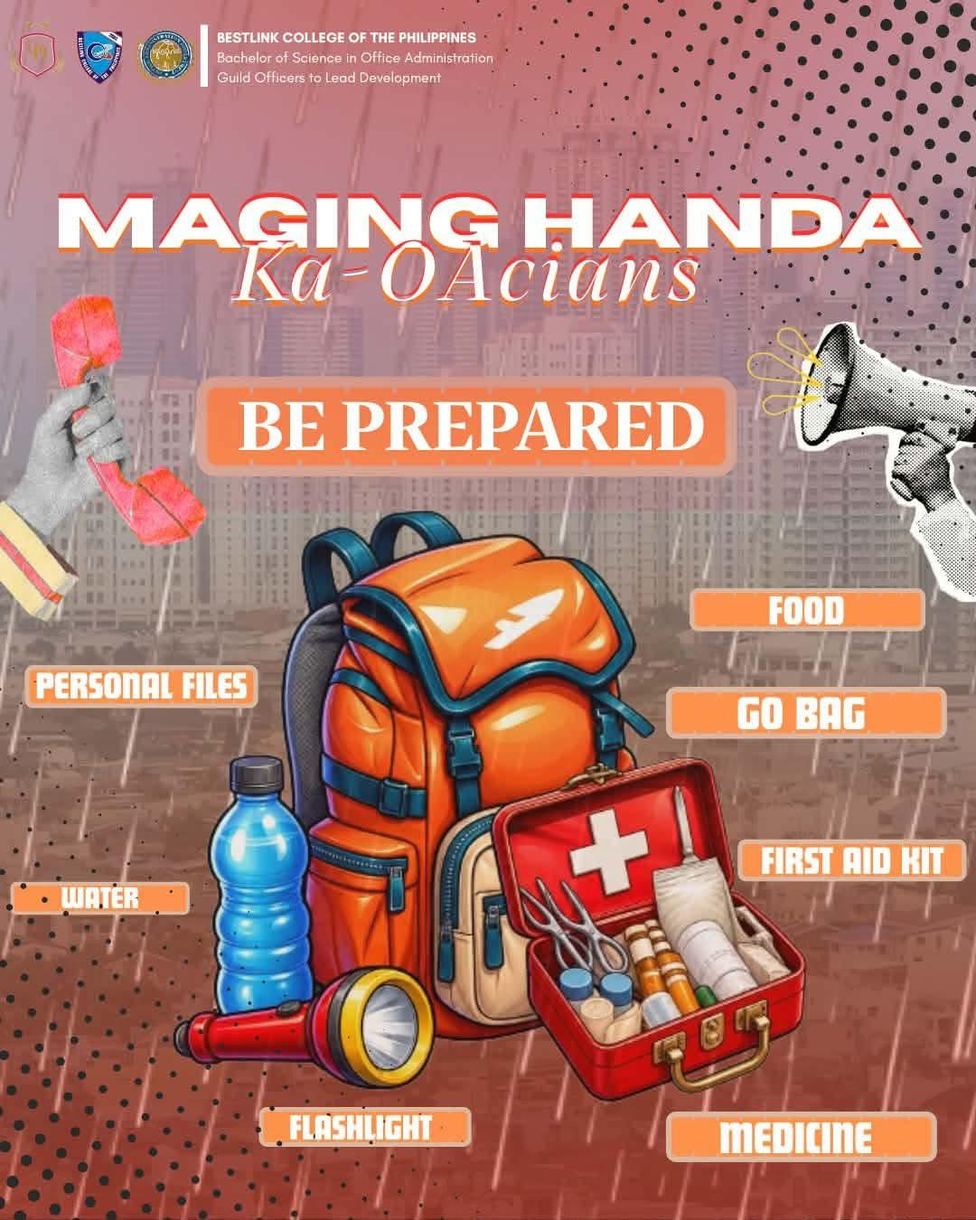embellishment: (164, 503, 808, 1109), (0, 290, 211, 628), (746, 316, 975, 602)
logo: (133, 23, 195, 87), (10, 19, 69, 84), (72, 23, 127, 87)
text: (45, 184, 929, 309), (232, 396, 708, 457), (215, 29, 499, 88), (32, 669, 251, 701), (760, 844, 946, 877), (718, 1119, 875, 1157), (734, 692, 869, 733), (287, 1113, 435, 1141), (765, 592, 847, 627), (59, 883, 144, 911)
underlay: (197, 376, 737, 478), (666, 1110, 938, 1163), (666, 688, 947, 738), (690, 586, 927, 633), (24, 664, 259, 708), (739, 838, 966, 881), (258, 1106, 472, 1148), (11, 882, 191, 913)
